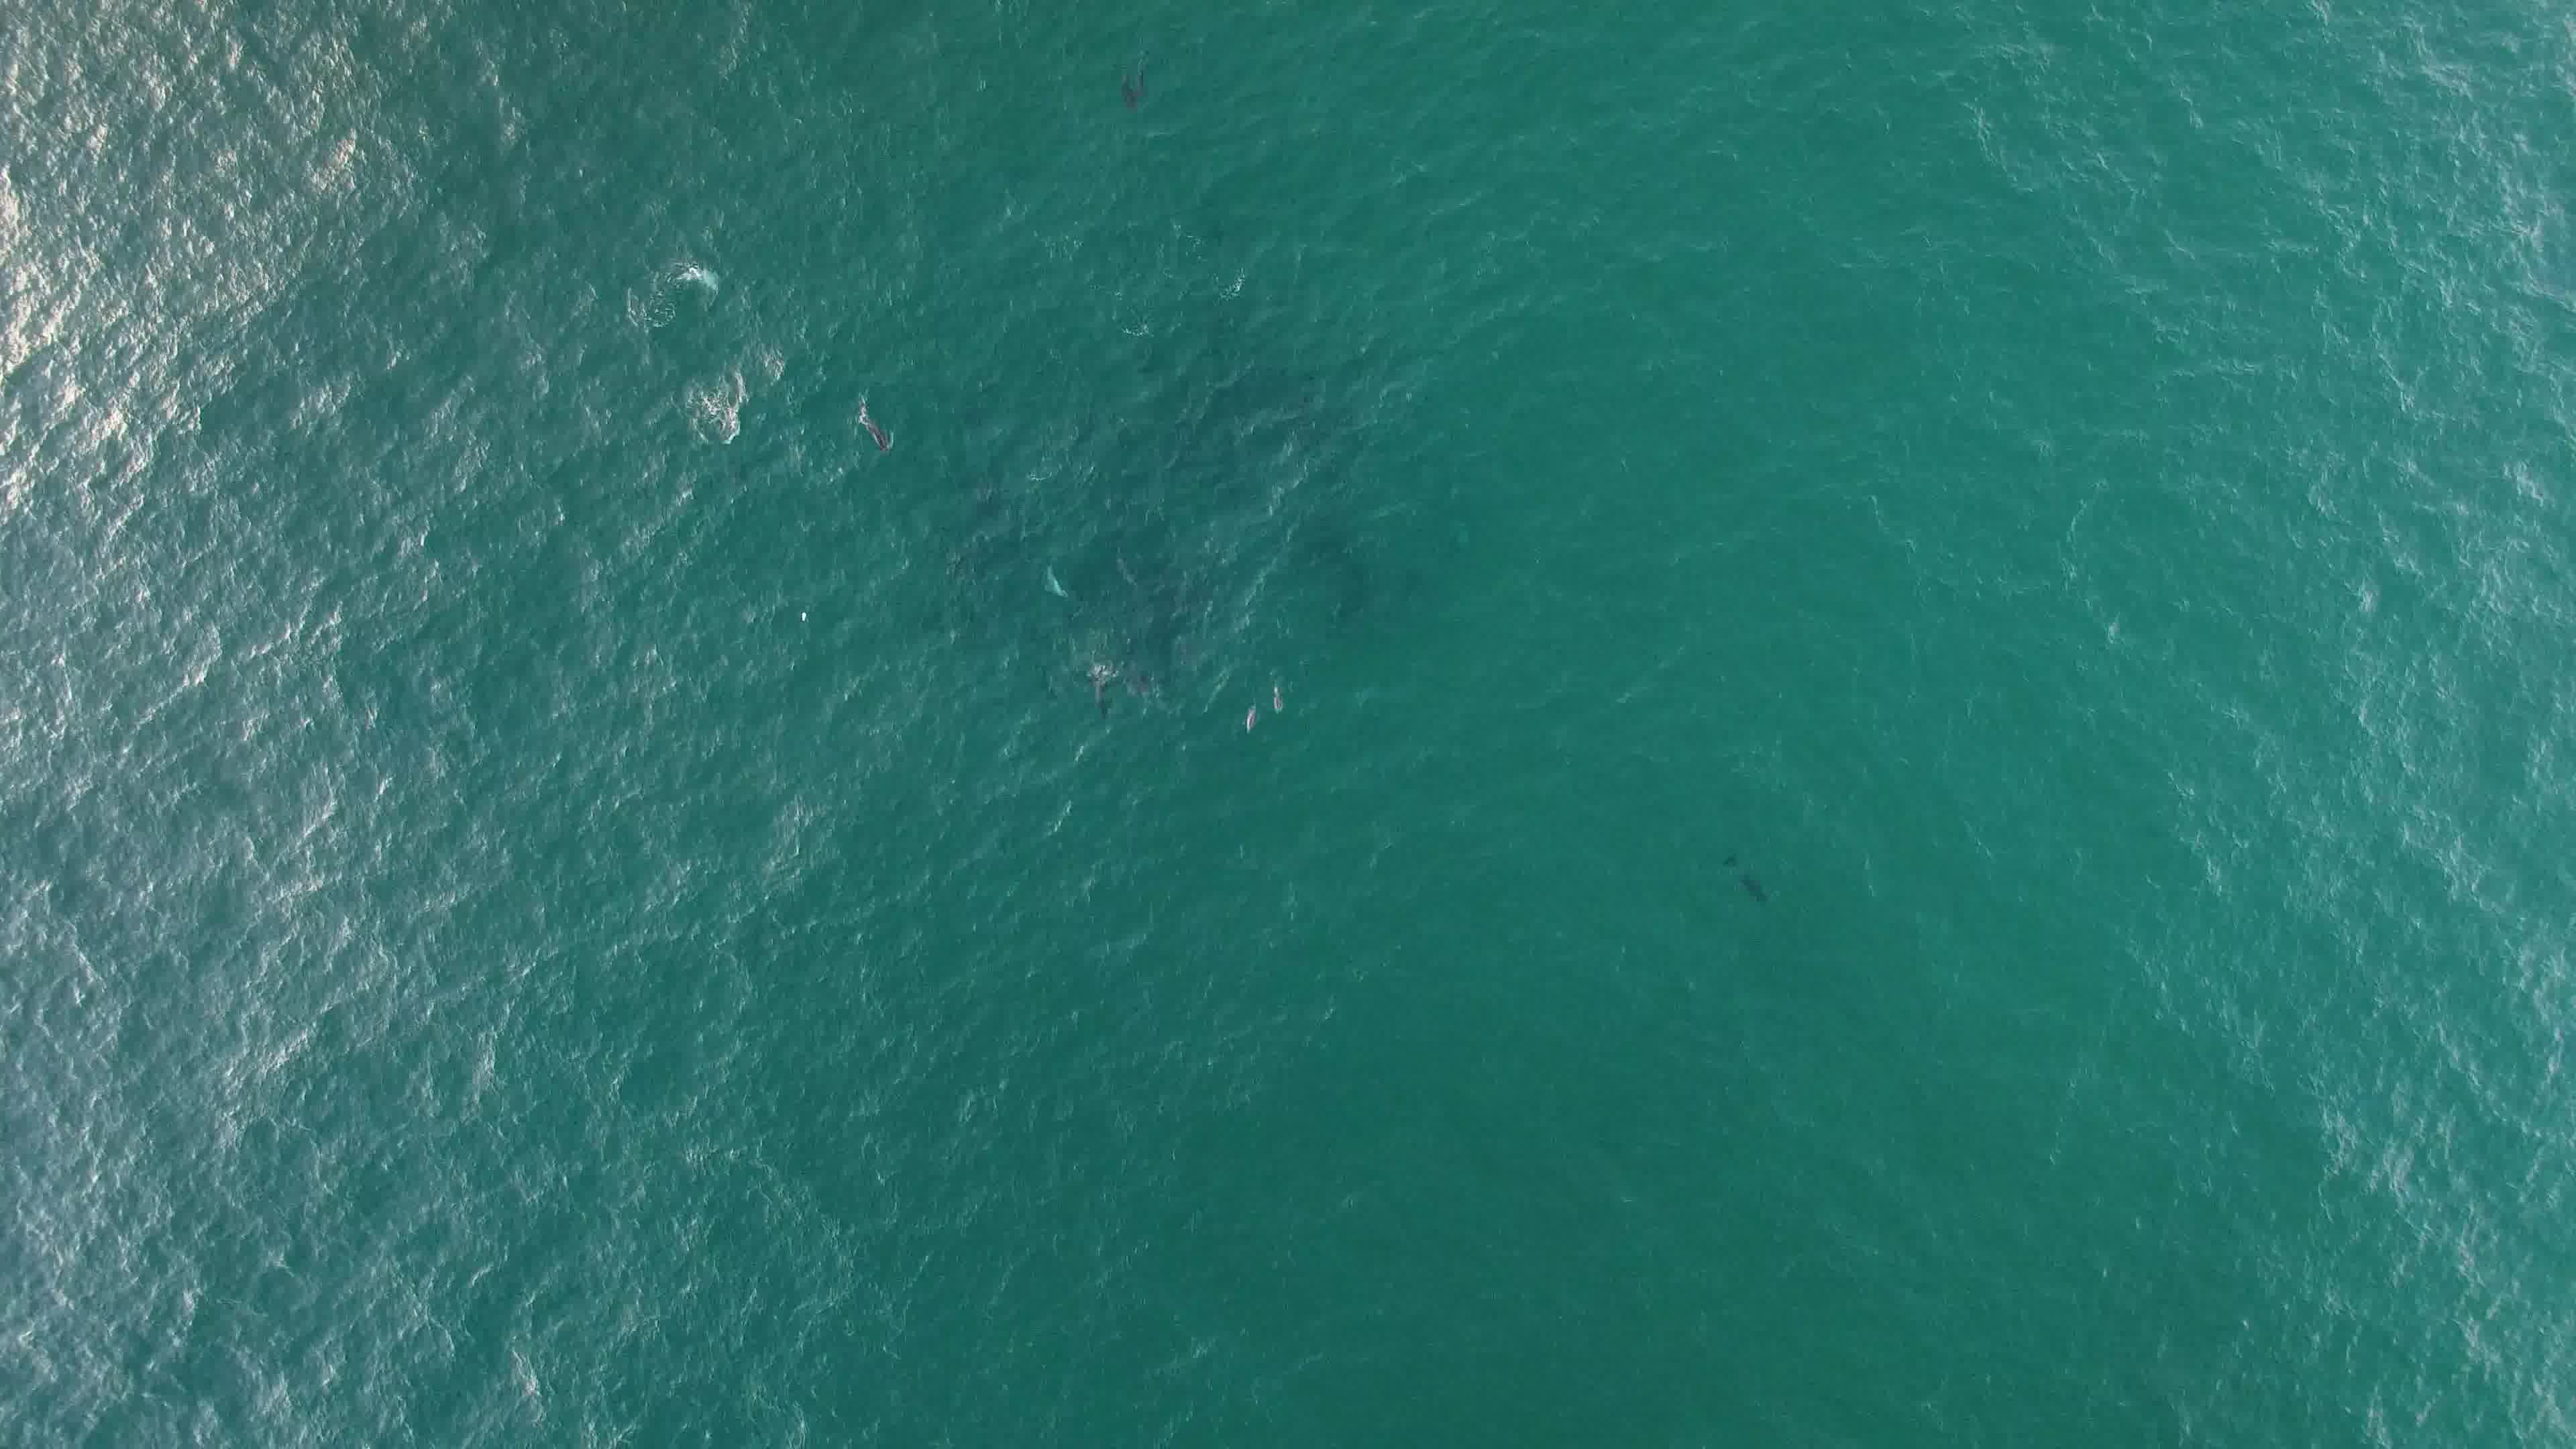dolphin: (1698, 832, 1782, 913), (842, 386, 904, 469), (1079, 655, 1122, 729), (1256, 667, 1293, 725), (1226, 690, 1263, 743)
